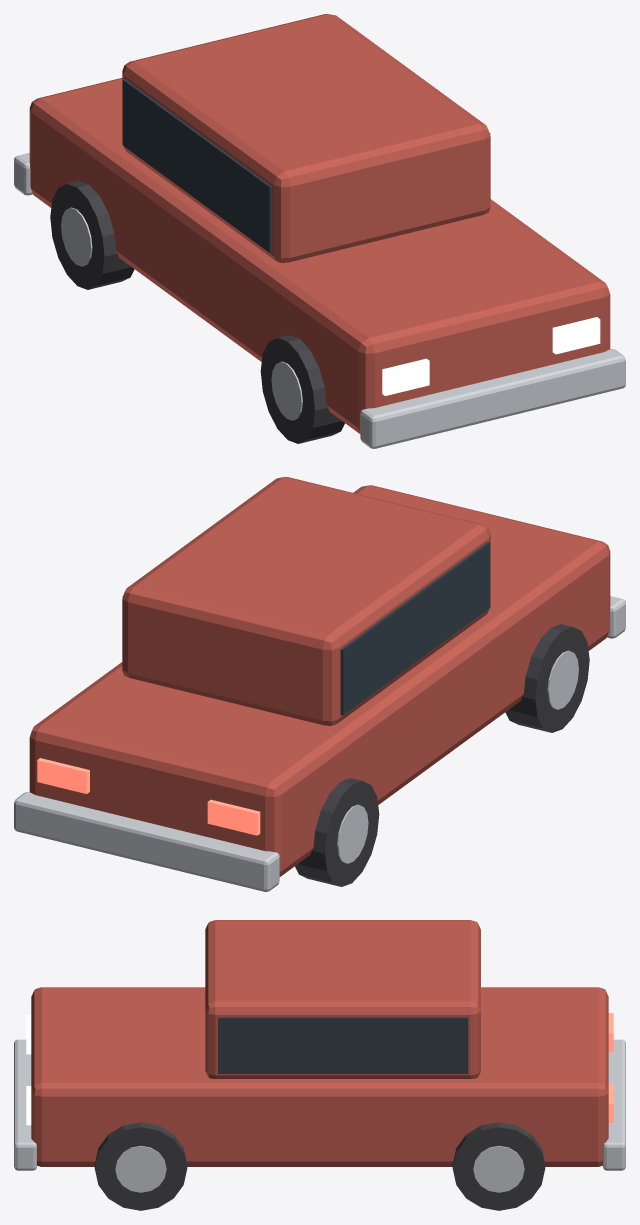
File: car_sedan_red.glb
The picture shows the model from 3 angles, top to bottom: view 1: azimuth 30°, elevation 25°; view 2: azimuth 150°, elevation 25°; view 3: azimuth 270°, elevation 25°; orthographic projection. The views are drawn at different scales.
Parts seen in each view (by area): view 1: Chassis, Cabin, BumperF, Windows, Wheel_-1_-1, Wheel_-1_1, Rim_-1_-1, Rim_-1_1, LightFR, LightFL, BumperR; view 2: Chassis, Cabin, BumperR, Windows, Wheel_-1_1, Wheel_-1_-1, Rim_-1_1, Rim_-1_-1, LightRL, LightRR, BumperF; view 3: Chassis, Cabin, Windows, Wheel_1_-1, Wheel_1_1, BumperR, BumperF, Rim_1_-1, Rim_1_1.
Boxes of the visible parts, left/top/right/bottom form: Chassis: left=29, top=78, right=610, bottom=433; Cabin: left=122, top=14, right=490, bottom=262; BumperF: left=360, top=349, right=625, bottom=448; Windows: left=122, top=79, right=490, bottom=252; Wheel_-1_-1: left=260, top=335, right=344, bottom=443; Wheel_-1_1: left=50, top=181, right=134, bottom=289; Rim_-1_-1: left=271, top=361, right=302, bottom=420; Rim_-1_1: left=61, top=207, right=92, bottom=266; LightFR: left=552, top=317, right=600, bottom=354; LightFL: left=382, top=358, right=429, bottom=395; BumperR: left=14, top=153, right=32, bottom=195; Chassis: left=29, top=485, right=610, bottom=876; Cabin: left=122, top=477, right=490, bottom=725; BumperR: left=14, top=792, right=279, bottom=891; Windows: left=122, top=542, right=490, bottom=715; Wheel_-1_1: left=295, top=778, right=379, bottom=886; Wheel_-1_-1: left=505, top=624, right=589, bottom=732; Rim_-1_1: left=337, top=804, right=368, bottom=863; Rim_-1_-1: left=547, top=650, right=578, bottom=709; LightRL: left=207, top=799, right=260, bottom=835; LightRR: left=37, top=758, right=89, bottom=793; BumperF: left=606, top=596, right=625, bottom=638; Chassis: left=31, top=987, right=608, bottom=1166; Cabin: left=205, top=920, right=480, bottom=1078; Windows: left=218, top=1017, right=468, bottom=1073; Wheel_1_-1: left=94, top=1122, right=187, bottom=1210; Wheel_1_1: left=452, top=1122, right=545, bottom=1210; BumperR: left=603, top=1039, right=625, bottom=1170; BumperF: left=14, top=1039, right=36, bottom=1170; Rim_1_-1: left=115, top=1146, right=166, bottom=1192; Rim_1_1: left=473, top=1146, right=524, bottom=1192.
Size of what is drawn, in the model's own units: 2.12 by 1.66 by 4.77.
